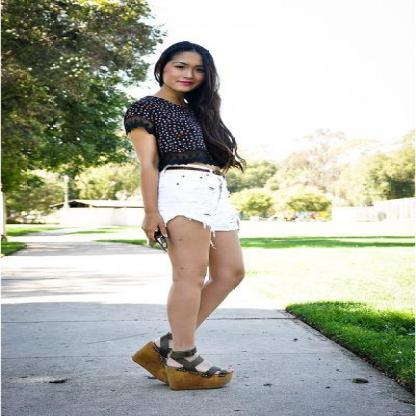shirt: (124, 92, 238, 171)
shoe: (132, 332, 231, 390)
shorts: (158, 165, 236, 233)
